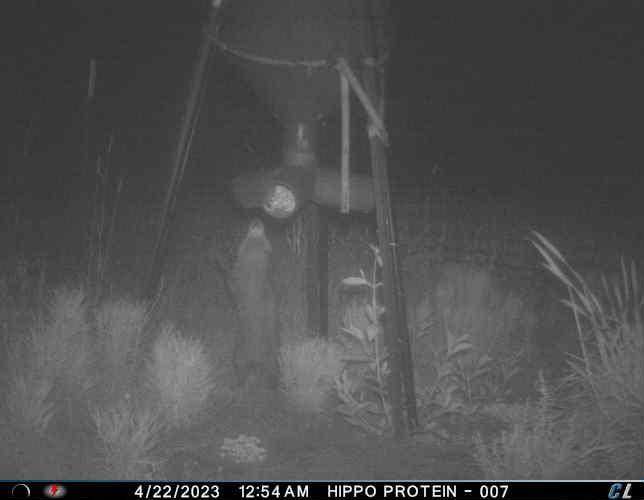Raccoon: (223, 215, 286, 394)
